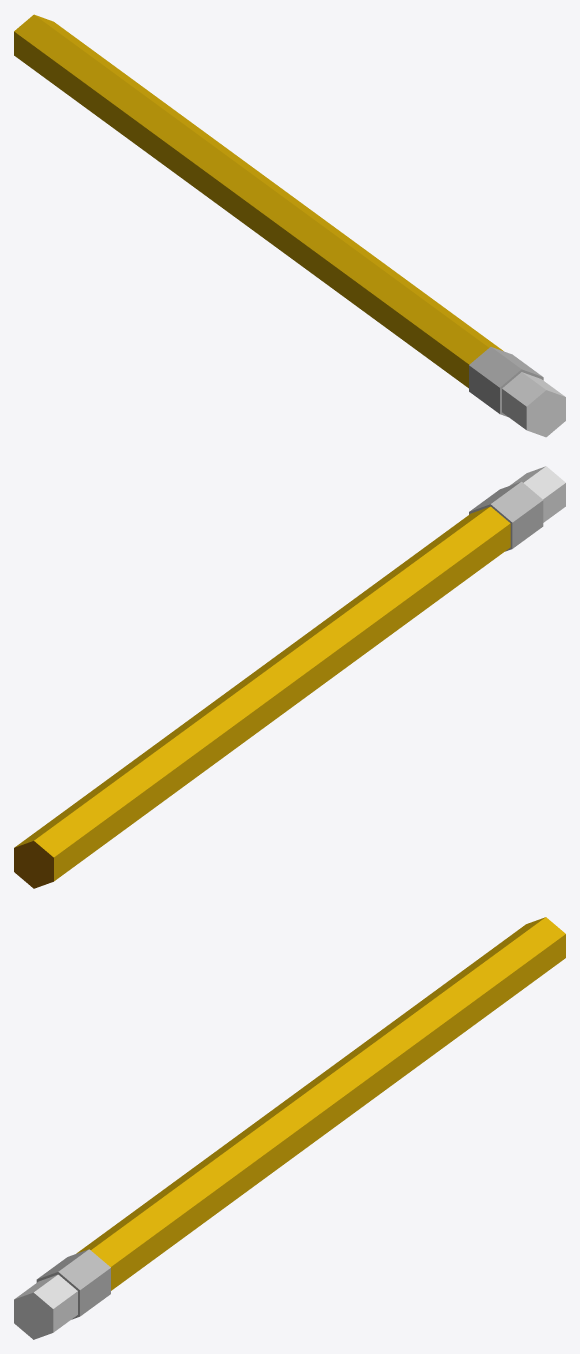
Rendered from PencilV2.fbx.
The picture shows the model from 3 angles, top to bottom: view 1: azimuth 30°, elevation 25°; view 2: azimuth 150°, elevation 25°; view 3: azimuth 330°, elevation 25°; orthographic projection.
Visible parts, largest first — view 1: PencilV2; view 2: PencilV2; view 3: PencilV2.
Boxes of the visible parts, x1=… form: PencilV2: x1=14, y1=14, x2=565, y2=437; PencilV2: x1=14, y1=466, x2=565, y2=888; PencilV2: x1=14, y1=917, x2=565, y2=1339.
Bounding box in the file's own units: 0.5054 × 0.583 × 10.27.
